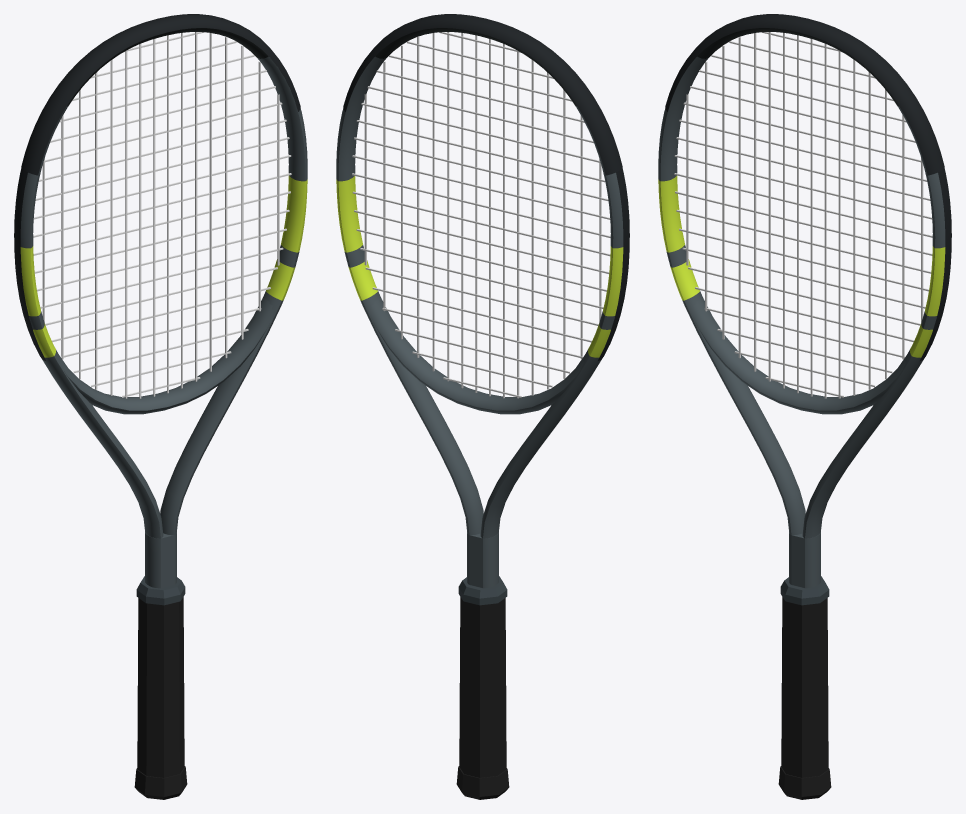
Rendered from babolat-pure-aero-98-2023.glb.
3 views of the same model, side by side, from view 1: azimuth 30°, elevation 25°; view 2: azimuth 150°, elevation 25°; view 3: azimuth 330°, elevation 25° (orthographic).
Parts seen in each view (by area): view 1: frame, strings_mains, strings_crosses, grip, bumper, grommets, butt_cap, collar; view 2: frame, strings_mains, strings_crosses, grip, bumper, grommets, butt_cap, collar; view 3: frame, strings_mains, strings_crosses, grip, bumper, grommets, butt_cap, collar.
Boxes of the visible parts, left/top/right/bottom form: frame: left=14, top=28, right=307, bottom=588; strings_mains: left=42, top=32, right=279, bottom=398; strings_crosses: left=33, top=32, right=291, bottom=397; grip: left=137, top=597, right=184, bottom=777; bumper: left=21, top=14, right=300, bottom=175; grommets: left=14, top=168, right=45, bottom=360; butt_cap: left=134, top=766, right=187, bottom=799; collar: left=136, top=576, right=185, bottom=605; frame: left=336, top=28, right=629, bottom=588; strings_mains: left=364, top=32, right=601, bottom=398; strings_crosses: left=352, top=32, right=610, bottom=397; grip: left=459, top=597, right=506, bottom=777; bumper: left=343, top=14, right=622, bottom=175; grommets: left=598, top=168, right=629, bottom=360; butt_cap: left=456, top=766, right=509, bottom=799; collar: left=458, top=576, right=507, bottom=605; frame: left=658, top=28, right=951, bottom=588; strings_mains: left=686, top=32, right=923, bottom=398; strings_crosses: left=674, top=32, right=932, bottom=397; grip: left=781, top=597, right=828, bottom=777; bumper: left=665, top=14, right=944, bottom=175; grommets: left=920, top=168, right=951, bottom=360; butt_cap: left=778, top=766, right=831, bottom=799; collar: left=780, top=576, right=829, bottom=605.
Size of the model in its own units: 0.2693 by 0.6861 by 0.0396.
